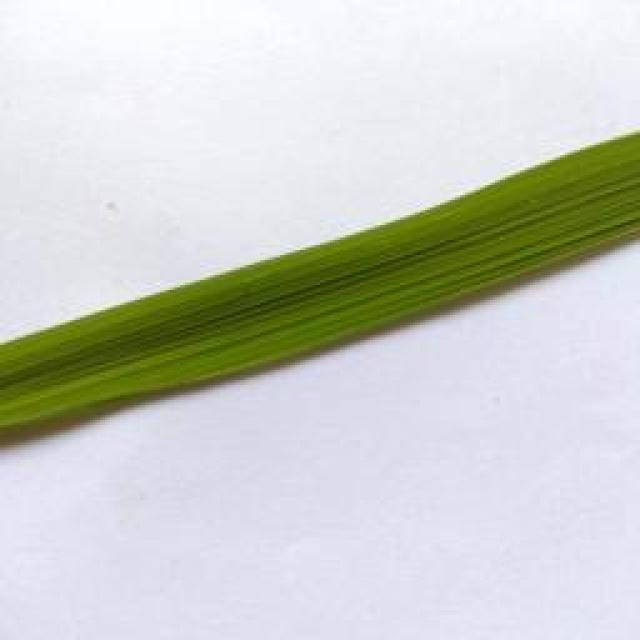Healthy-Plant: (272, 187, 469, 388), (456, 124, 640, 329), (133, 245, 283, 421), (0, 291, 138, 446)
